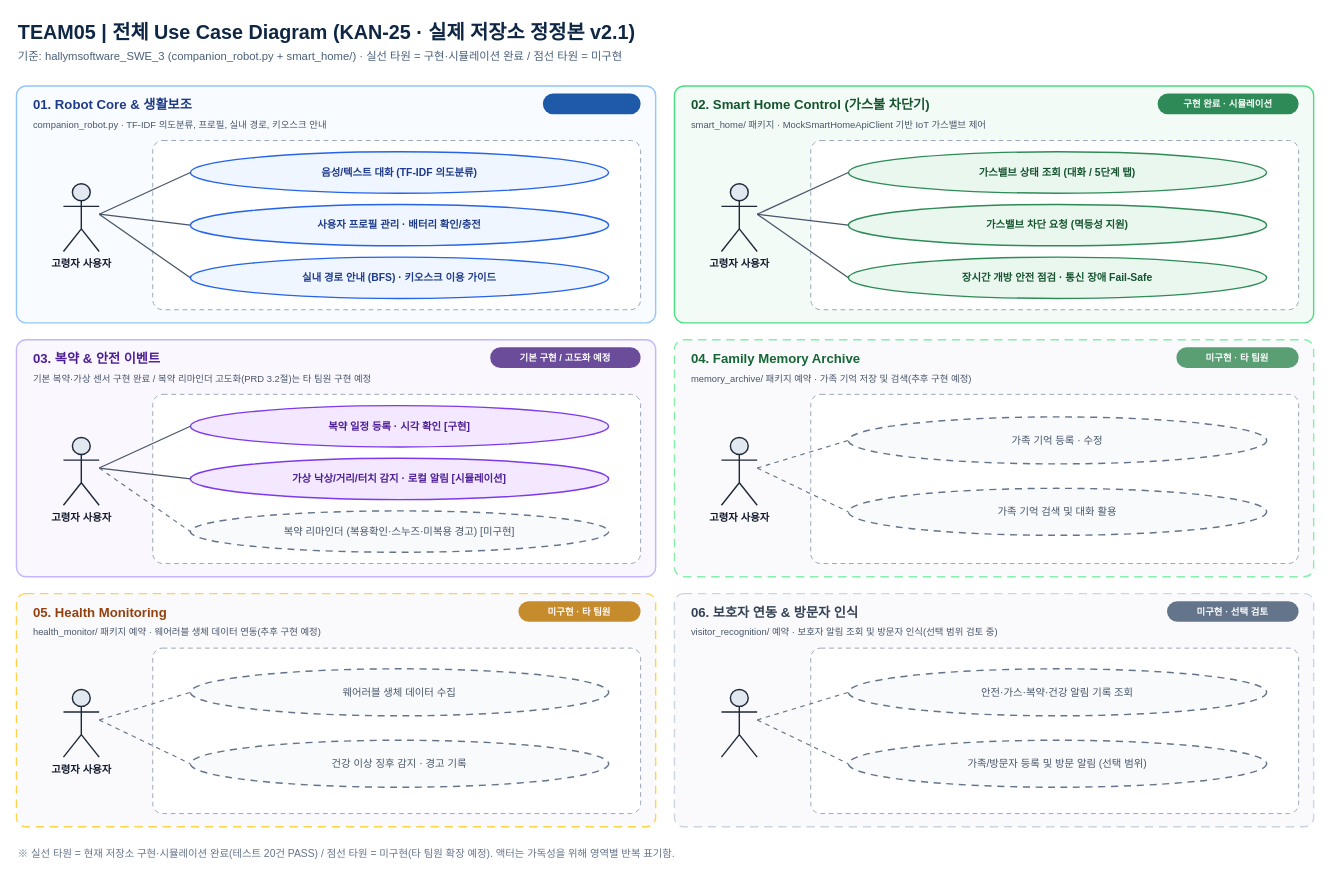
The diagram is 1331 pixels wide and 882 high, and some of its shapes have lost their labels. Each missing label, with the centre of its shape:
구현 완료: [591,103]
보호자 / 가족: [738,722]
